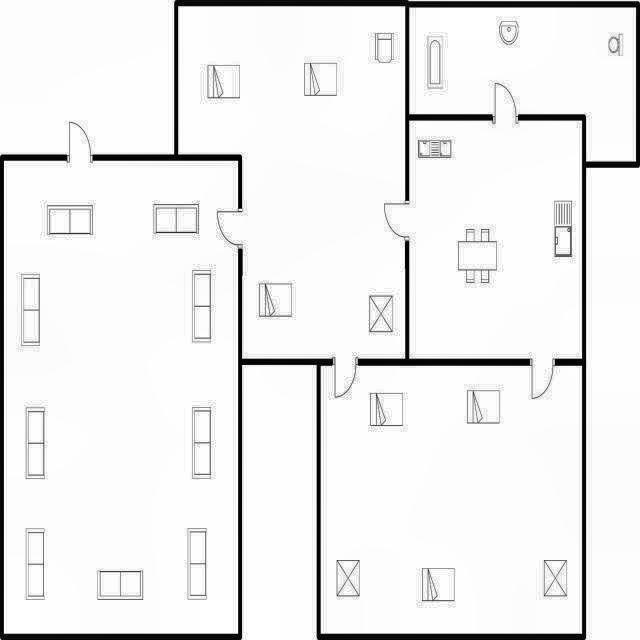room: (4, 160, 238, 634), (178, 6, 405, 359), (321, 366, 582, 634), (409, 120, 582, 359), (410, 7, 636, 162)
